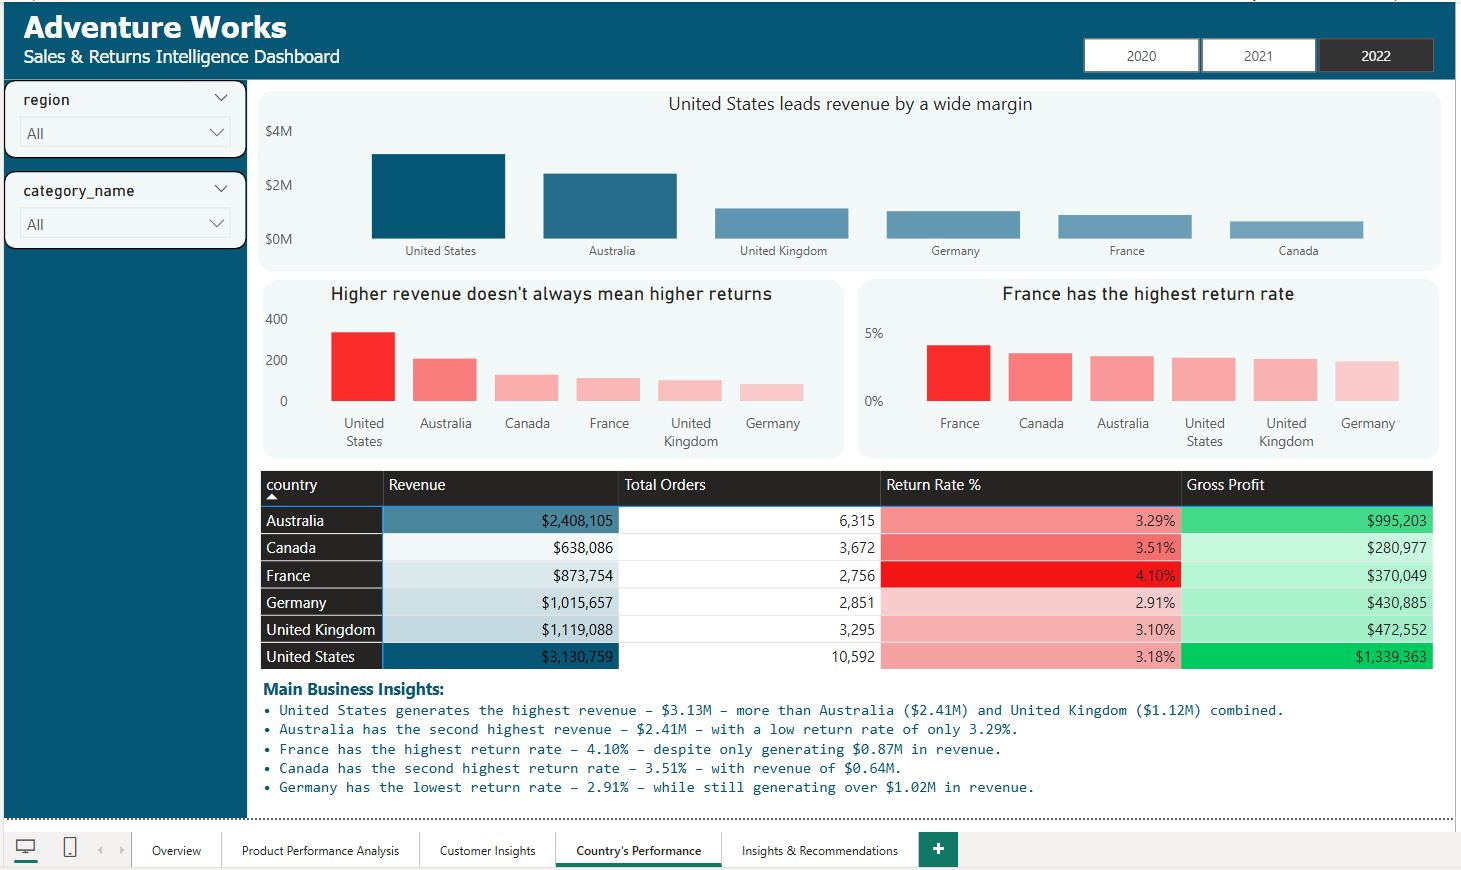

What the dashboard file says about the page in this screenshot:
{"tool":"powerbi","page":{"name":"Country's Performance","canvas":[1280,720],"ordinal":3},"visuals":[{"type":"shape","box":[223.9,78.5,1044.4,159.2],"z":0},{"type":"shape","box":[228.2,245.2,512.6,158.1],"z":1000},{"type":"shape","box":[0,0,1280,68.5],"z":2000},{"type":"shape","box":[0,68.5,214.7,651.1],"z":3000},{"type":"textbox","box":[12.1,0,420.3,64.5],"z":4000},{"type":"slicer","fields":{"Values":["dim_product_categories.category_name"]},"box":[0,148.9,214.4,68.9],"z":5000},{"type":"slicer","fields":{"Values":["dim_territory.region"]},"box":[0,68.9,214.4,68.9],"z":6000},{"type":"slicer","fields":{"Values":["calendar.Year"]},"box":[931.3,30.2,348.7,34.3],"z":7000},{"type":"clusteredColumnChart","title":"United States leads revenue by a wide margin","fields":{"Category":["dim_territory.country"],"Y":["#measures.Revenue"]},"box":[225,78.5,1043.3,159.2],"z":8000},{"type":"clusteredColumnChart","title":"Higher revenue doesn''t always mean higher returns","fields":{"Category":["dim_territory.country"],"Y":["#measures.Total Returns"]},"box":[225,247.3,515.8,156],"z":9000},{"type":"shape","box":[753.6,244.1,512.6,159.2],"z":10000},{"type":"clusteredColumnChart","title":"France has the highest return rate","fields":{"Category":["dim_territory.country"],"Y":["#measures.Return Rate %"]},"box":[753.6,247.3,512.6,156],"z":11000},{"type":"pivotTable","fields":{"Rows":["dim_territory.country"],"Values":["#measures.Revenue","#measures.Total Orders","#measures.Return Rate %","#measures.Gross Profit"]},"box":[221.8,408.6,1046.5,188.9],"z":11001},{"type":"textbox","box":[222.9,590.1,1047.6,128.4],"z":11002}]}

Visuals, with their boxes on the page's 1280x720 design canvas (x1, y1, x2, y2). These are canvas units, not pixel positions in the 1461x870 screenshot, which may show the page scaled, cropped or inside an application window:
shape: Rect(224, 78, 1268, 238)
shape: Rect(228, 245, 741, 403)
shape: Rect(0, 0, 1280, 68)
shape: Rect(0, 68, 215, 720)
textbox: Rect(12, 0, 432, 64)
slicer - dim_product_categories.category_name: Rect(0, 149, 214, 218)
slicer - dim_territory.region: Rect(0, 69, 214, 138)
slicer - calendar.Year: Rect(931, 30, 1280, 64)
"United States leads revenue by a wide margin" clusteredColumnChart: Rect(225, 78, 1268, 238)
"Higher revenue doesn''t always mean higher returns" clusteredColumnChart: Rect(225, 247, 741, 403)
shape: Rect(754, 244, 1266, 403)
"France has the highest return rate" clusteredColumnChart: Rect(754, 247, 1266, 403)
pivotTable - dim_territory.country x #measures.Revenue: Rect(222, 409, 1268, 598)
textbox: Rect(223, 590, 1270, 718)
